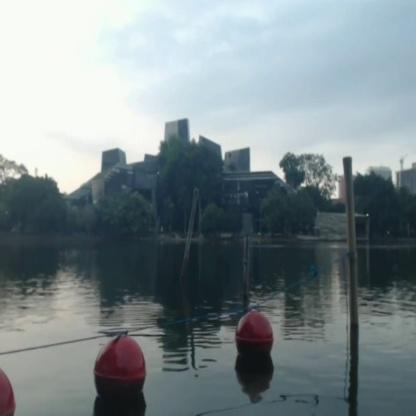red_buoy: (94, 335, 147, 406), (237, 314, 273, 362), (0, 370, 17, 415)
